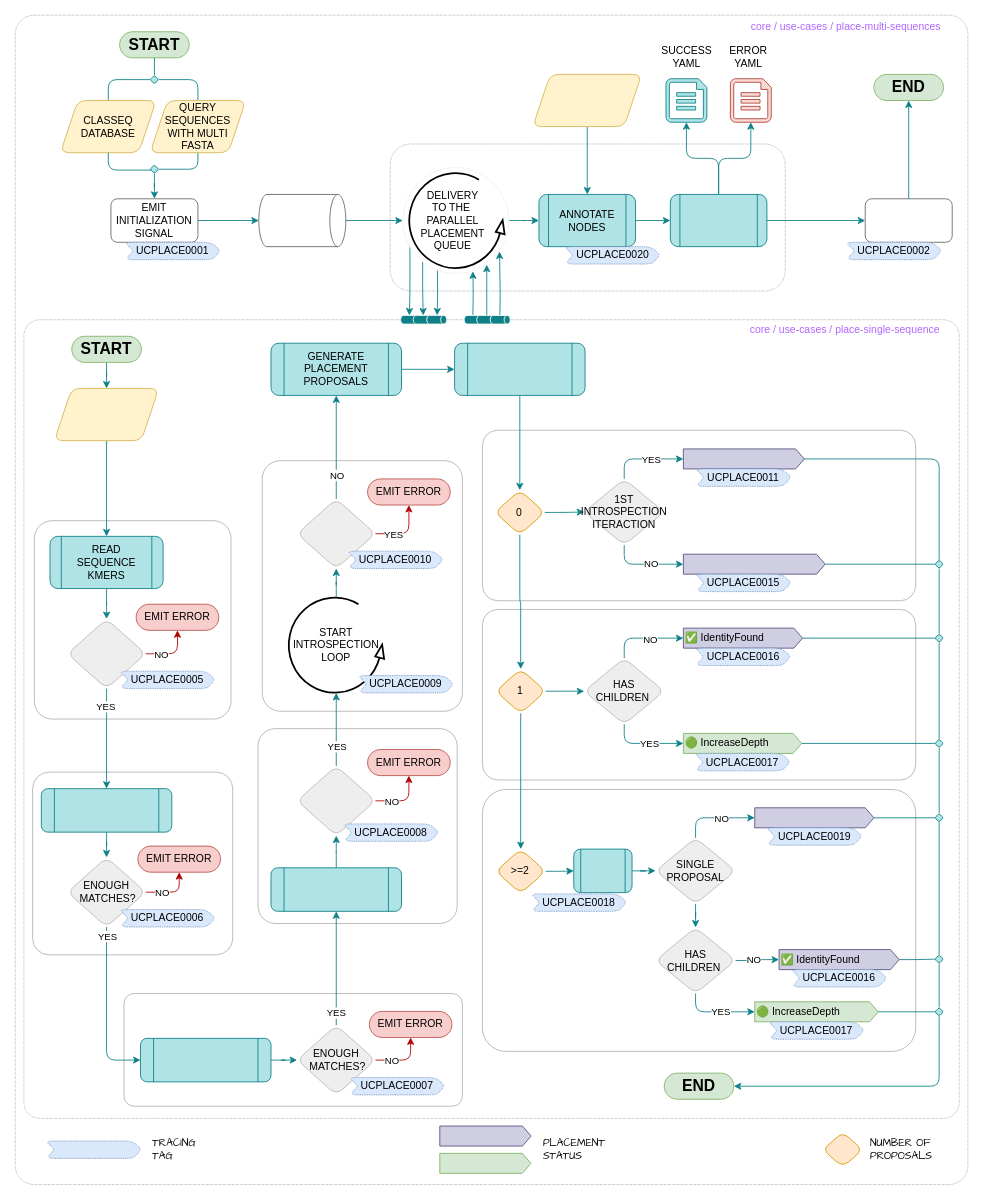
Image size: 983x1200. Some labels were removed from this diagram. Here are the shapes that lost their labels. From the top down, the box of each, then its label:
(532, 74, 642, 127): CLASSEQ ANNOTATIONS
(258, 194, 346, 247): LAZY LOAD QUERY FILE CONTENT
(669, 194, 767, 247): PARALLEL WRITE OUTPUT
(864, 198, 952, 242): EMIT FINISH SIGNAL
(454, 342, 585, 395): EVALUATE PLACEMENT PROPOSALS
(54, 388, 159, 441): QUERY SEQUENCE
(683, 448, 804, 469): 🔴 Unclassifiable
(296, 498, 375, 569): REACHED MAX ITERACTION?
(683, 553, 825, 574): ✅ MaxResolutionReached
(67, 618, 146, 689): ENOUGH KMERS?
(40, 788, 172, 832): BUILD MAP FROM QUERY KMERS
(296, 765, 375, 836): ENOUGH COVERAGE?
(754, 807, 874, 828): 🔴 Inconclusive
(270, 867, 402, 911): CALCULATE MAPPING COVERAGE
(573, 848, 632, 893): GET MAX DIFF
(140, 1037, 271, 1082): BUILD INTROSPECTION MAP
